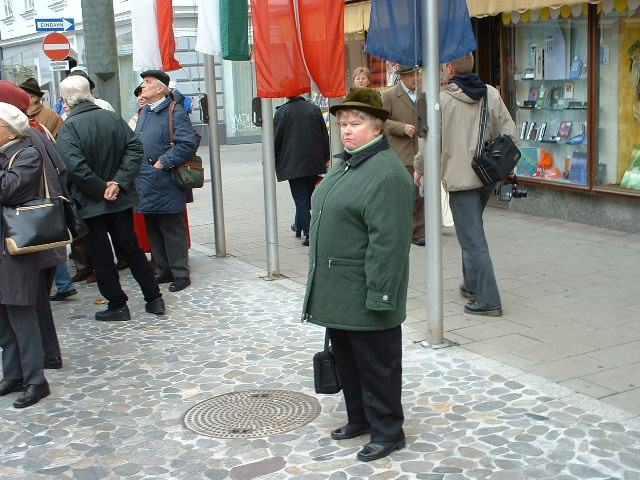person: (300, 85, 413, 459), (56, 73, 163, 317), (131, 68, 198, 290)
